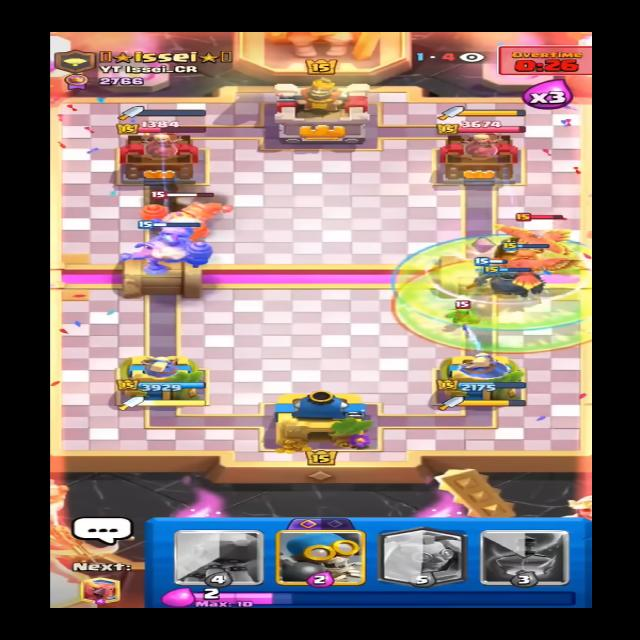Goblin: (437, 294, 481, 325)
Goblincurse: (379, 258, 602, 352)
Goblinmachine: (131, 185, 229, 238)
Pheonix: (502, 211, 592, 261)
